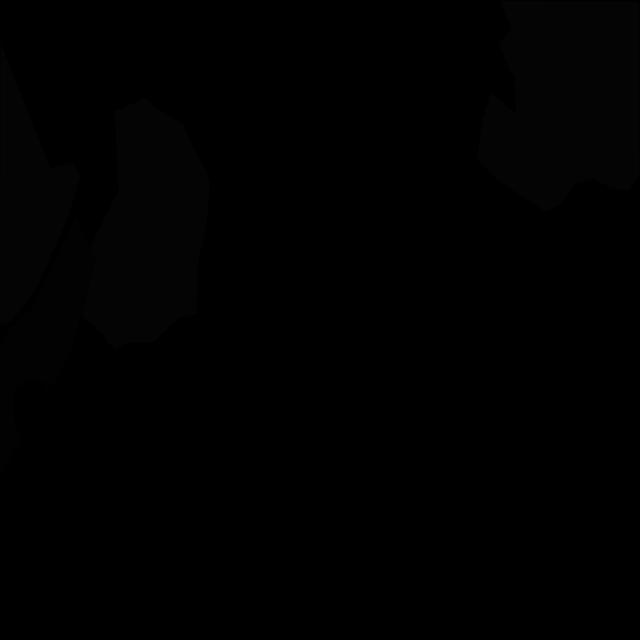cardboard: (0, 218, 96, 477)
soft_plastic: (477, 1, 640, 212), (82, 98, 210, 349), (0, 42, 80, 324)
